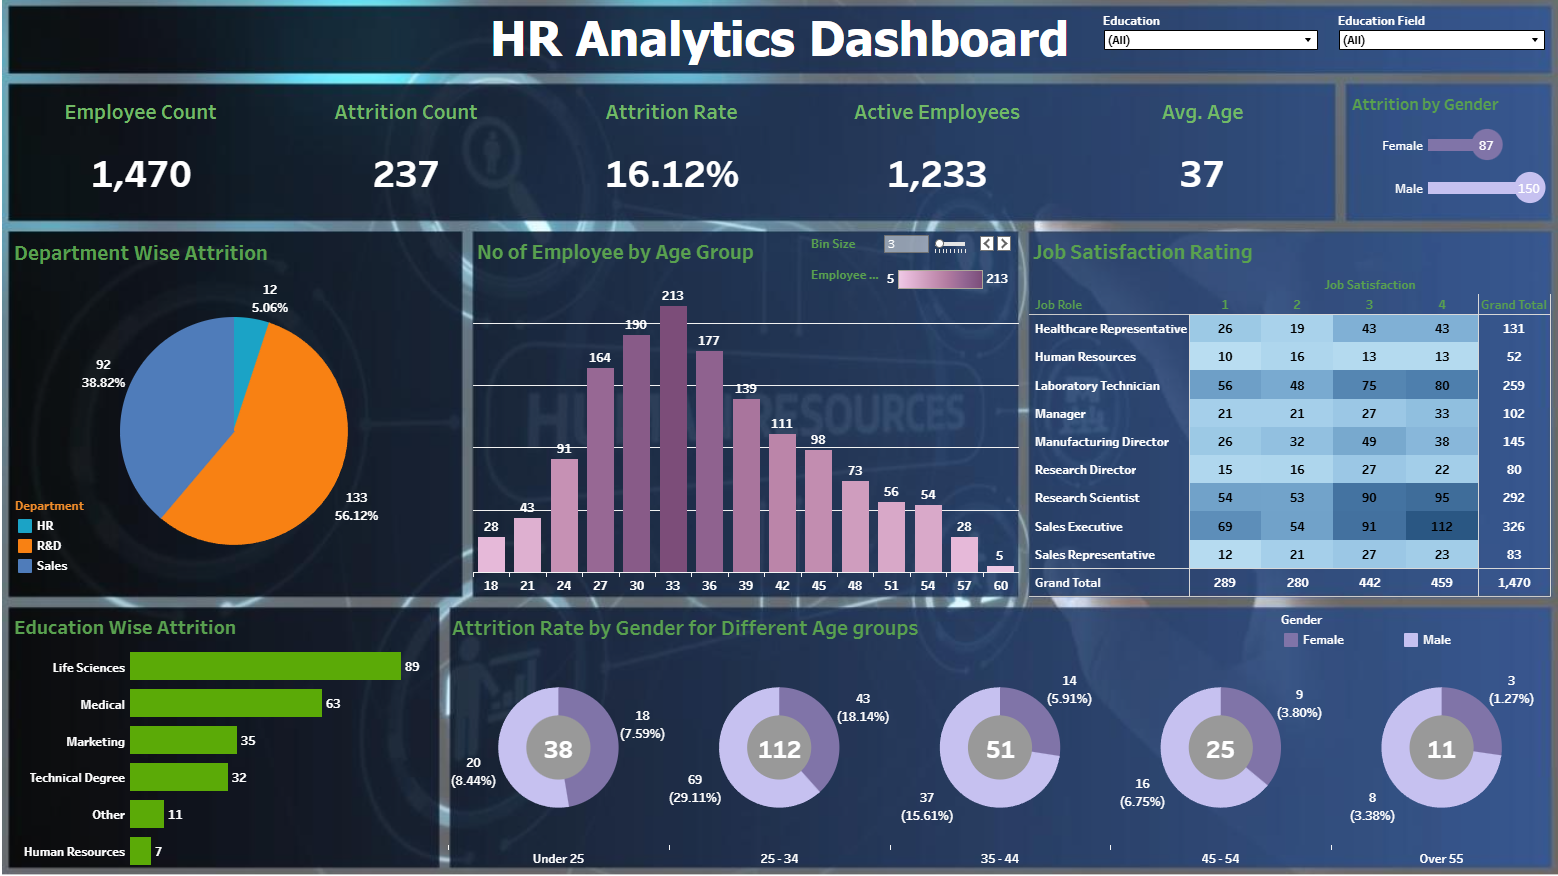

This screenshot's page, from the dashboard's own definition file:
{"tool":"powerbi","page":{"name":"Dashboard","canvas":[1280,720],"ordinal":0},"visuals":[{"type":"card","title":"Overall Employees","fields":{"Values":["Sum(HR data.Employee Count)"]},"box":[20.2,56.1,240.3,109.6],"z":0},{"type":"card","title":"Attrition","fields":{"Values":["Sum(HR data.Attrition Count)"]},"box":[270.1,56.1,240.3,109.6],"z":1000},{"type":"card","title":"Attrition Rate","fields":{"Values":["HR data.Attrition Rates"]},"box":[520,56.1,240.3,109.6],"z":2000},{"type":"card","title":"Active Employees","fields":{"Values":["HR data.Active Employees"]},"box":[769.1,56.1,240.3,109.6],"z":3000},{"type":"card","title":"Average Age","fields":{"Values":["Avg(HR data.Age)"]},"box":[1019.9,56.1,240.3,109.6],"z":4000},{"type":"donutChart","title":"Department Wise Attrition","fields":{"Category":["HR data.Department"],"Y":["Sum(HR data.Attrition Count)"]},"box":[20.2,176.3,385,271],"z":5000},{"type":"columnChart","title":"No of Employee by Age Group","fields":{"Category":["HR data.CF_age band"],"Y":["Sum(HR data.Employee Count)"],"Series":["HR data.Gender"]},"box":[413.1,176.3,383.2,271],"z":6000},{"type":"pivotTable","title":"Job Satisfaction Rating","fields":{"Rows":["HR data.Job Role"],"Columns":["HR data.Job Satisfaction"],"Values":["Sum(HR data.Employee Count)"]},"box":[804.2,176.3,456,271],"z":7000},{"type":"barChart","title":"Education Field Wise Attrition","fields":{"Category":["HR data.Education Field"],"Y":["Sum(HR data.Attrition Count)"]},"box":[20.2,455.2,342,249.9],"z":8000},{"type":"donutChart","title":"Under 25","fields":{"Category":["HR data.Gender"],"Y":["Sum(HR data.Attrition Count)"],"Series":["HR data.CF_age band"]},"box":[545.5,485,183.3,220.1],"z":9000},{"type":"textbox","title":"Attrition Rate by Gender for Different Age Groups","box":[371.8,455.2,890.1,21.9],"z":10000},{"type":"donutChart","title":"25 - 34","fields":{"Category":["HR data.Gender"],"Y":["Sum(HR data.Attrition Count)"],"Series":["HR data.CF_age band"]},"box":[369.2,485,176.3,220.1],"z":11000},{"type":"donutChart","title":"35 - 44","fields":{"Category":["HR data.Gender"],"Y":["Sum(HR data.Attrition Count)"],"Series":["HR data.CF_age band"]},"box":[728.8,485,176.3,220.1],"z":12000},{"type":"donutChart","title":"45 - 54","fields":{"Category":["HR data.Gender"],"Y":["Sum(HR data.Attrition Count)"],"Series":["HR data.CF_age band"]},"box":[905,485,178.9,220.1],"z":13000},{"type":"donutChart","title":"Over 55","fields":{"Category":["HR data.Gender"],"Y":["Sum(HR data.Attrition Count)"],"Series":["HR data.CF_age band"]},"box":[1083.9,485,176.3,220.1],"z":14000},{"type":"card","fields":{"Values":["Sum(HR data.Attrition Count)"]},"box":[430.6,580.6,53.5,49.1],"z":15000},{"type":"card","fields":{"Values":["Sum(HR data.Attrition Count)"]},"box":[610.8,580.7,58.4,48.6],"z":16000},{"type":"card","fields":{"Values":["Sum(HR data.Attrition Count)"]},"box":[790.2,580.6,53.5,49.1],"z":17000},{"type":"card","fields":{"Values":["Sum(HR data.Attrition Count)"]},"box":[967.3,580.6,53.5,49.1],"z":18000},{"type":"card","fields":{"Values":["Sum(HR data.Attrition Count)"]},"box":[1145.3,580.6,53.5,49.1],"z":19000},{"type":"textbox","title":"HR ANALYTICS DASHBOARD","box":[20.2,7.9,540.2,41.2],"z":20000},{"type":"slicer","fields":{"Values":["HR data.Education"]},"box":[563.9,7.9,696.3,41.2],"z":21000}]}

Visuals, with their boxes in screenshot pixels (x1, y1, x2, y2), scaled from the page's 1280x720 canvas onto the 1558x876 screenshot:
"Overall Employees" card: region(25, 68, 317, 202)
"Attrition" card: region(329, 68, 621, 202)
"Attrition Rate" card: region(633, 68, 925, 202)
"Active Employees" card: region(936, 68, 1229, 202)
"Average Age" card: region(1241, 68, 1534, 202)
"Department Wise Attrition" donutChart: region(25, 214, 493, 544)
"No of Employee by Age Group" columnChart: region(503, 214, 969, 544)
"Job Satisfaction Rating" pivotTable: region(979, 214, 1534, 544)
"Education Field Wise Attrition" barChart: region(25, 554, 441, 858)
"Under 25" donutChart: region(664, 590, 887, 858)
"Attrition Rate by Gender for Different Age Groups" textbox: region(453, 554, 1536, 580)
"25 - 34" donutChart: region(449, 590, 664, 858)
"35 - 44" donutChart: region(887, 590, 1102, 858)
"45 - 54" donutChart: region(1102, 590, 1319, 858)
"Over 55" donutChart: region(1319, 590, 1534, 858)
card - Sum(HR data.Attrition Count): region(524, 706, 589, 766)
card - Sum(HR data.Attrition Count): region(743, 707, 815, 766)
card - Sum(HR data.Attrition Count): region(962, 706, 1027, 766)
card - Sum(HR data.Attrition Count): region(1177, 706, 1243, 766)
card - Sum(HR data.Attrition Count): region(1394, 706, 1459, 766)
"HR ANALYTICS DASHBOARD" textbox: region(25, 10, 682, 60)
slicer - HR data.Education: region(686, 10, 1534, 60)
